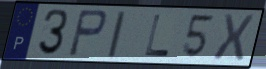3: (37, 8, 70, 57)
5: (180, 13, 217, 61)
I: (106, 10, 128, 59)
L: (143, 13, 171, 58)
P: (66, 8, 109, 59)
X: (210, 12, 256, 63)
